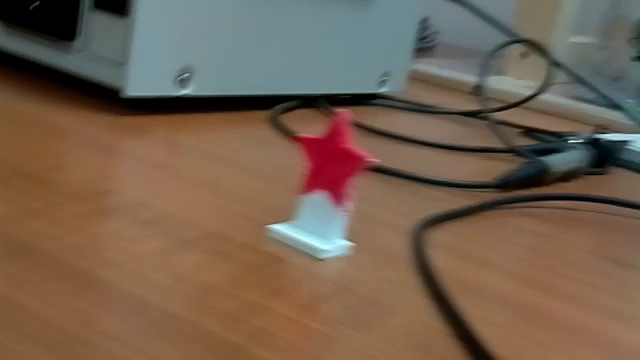star: (257, 96, 386, 264)
